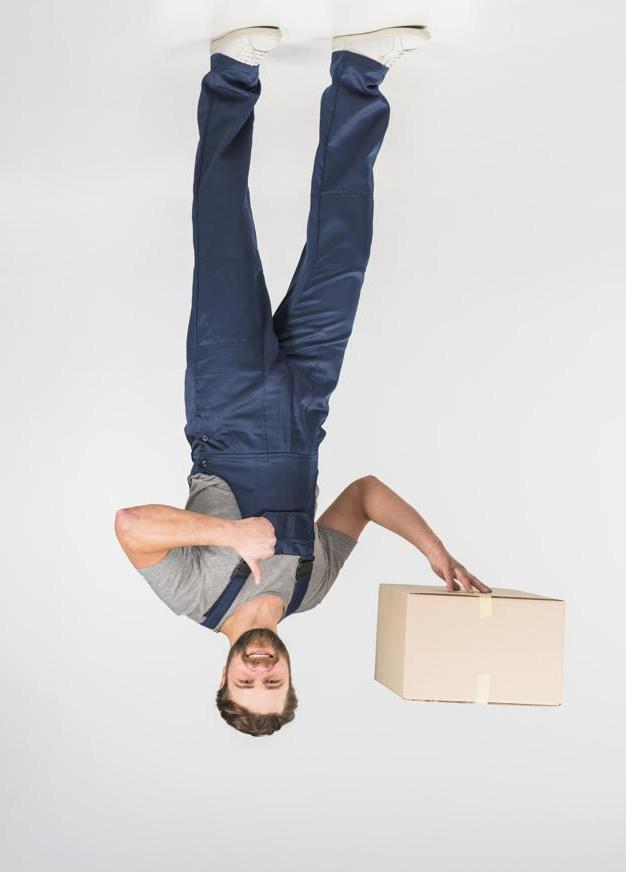thumbsdown: (246, 517, 277, 585)
